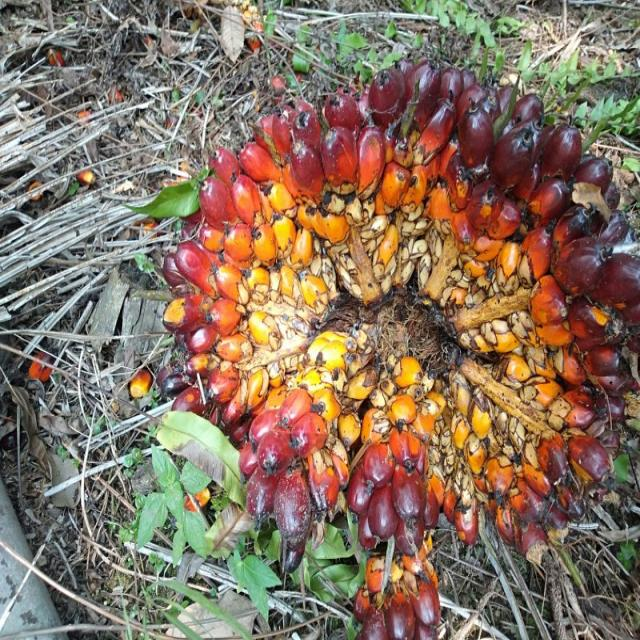fraksi 1: (180, 52, 632, 542)
